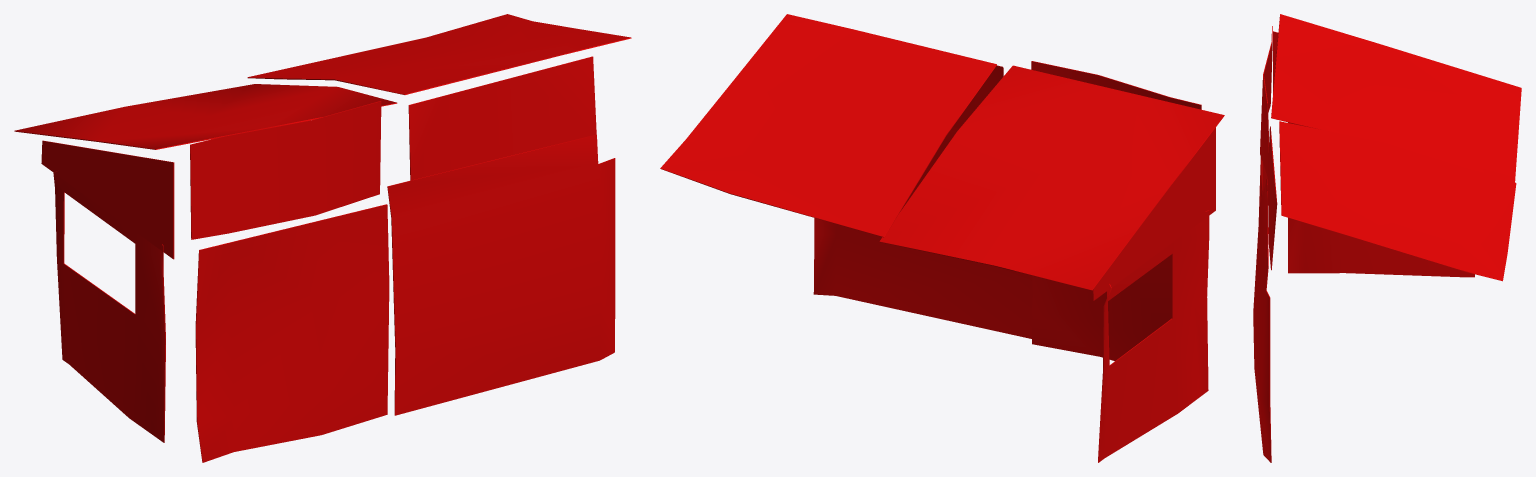
Rendered from Hut_03_Metal.fbx.
3 views of the same model, side by side, from view 1: azimuth 30°, elevation 25°; view 2: azimuth 150°, elevation 25°; view 3: azimuth 270°, elevation 25° (orthographic). The views are drawn at different scales.
Parts seen in each view (by area): view 1: Hut_03_Metal; view 2: Hut_03_Metal; view 3: Hut_03_Metal.
Part boxes in pixels (x1=…): Hut_03_Metal: x1=14, y1=14, x2=631, y2=462; Hut_03_Metal: x1=660, y1=14, x2=1224, y2=462; Hut_03_Metal: x1=1253, y1=14, x2=1521, y2=462.
Size of the model in its own units: 688 by 424 by 392.
